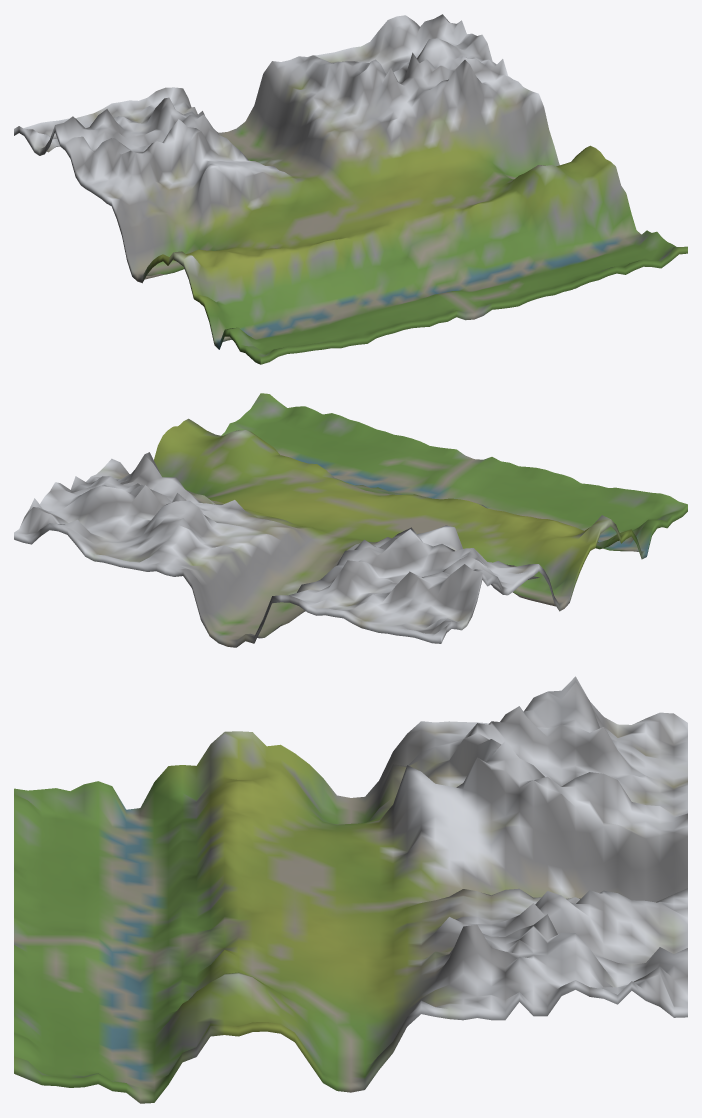
The model's file is far.glb.
The picture shows the model from 3 angles, top to bottom: view 1: azimuth 30°, elevation 25°; view 2: azimuth 150°, elevation 25°; view 3: azimuth 270°, elevation 25°; orthographic projection. The views are drawn at different scales.
Parts seen in each view (by area): view 1: far-proxy; view 2: far-proxy; view 3: far-proxy.
Part boxes in pixels (left/top/right/bottom): far-proxy: left=14, top=14, right=687, bottom=364; far-proxy: left=14, top=393, right=687, bottom=647; far-proxy: left=14, top=676, right=687, bottom=1103.
Bounding box in the file's own units: 500 × 123 × 500.
